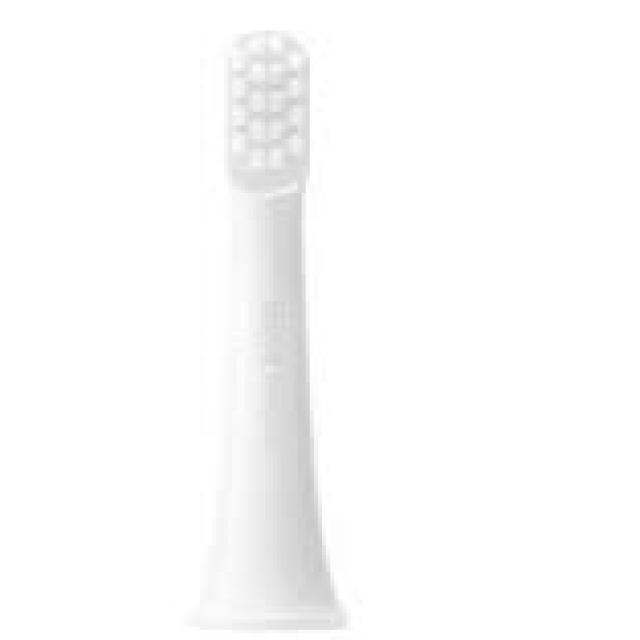organic: (187, 9, 360, 620)
